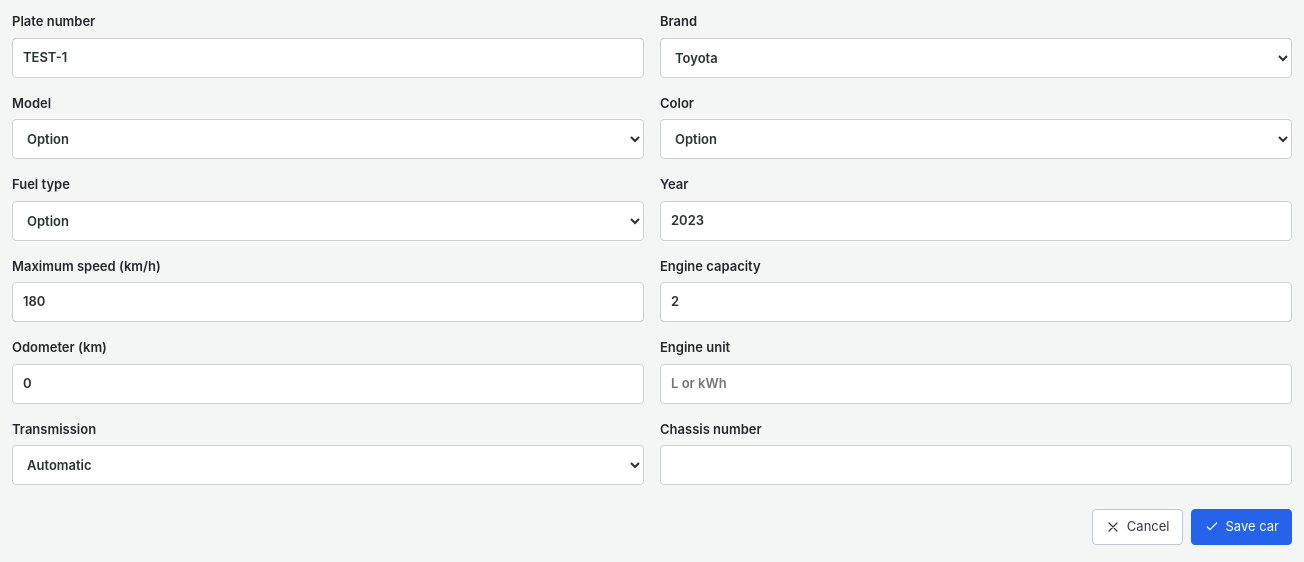
Test: Cars UI › clears model/color after changing brands
Check: the dropdown labelled "Model" is enabled, box [12,119,644,159]
Select "Select brand" in the dropdown labelled "Brand" at [976, 58], box [660,38,1292,78]
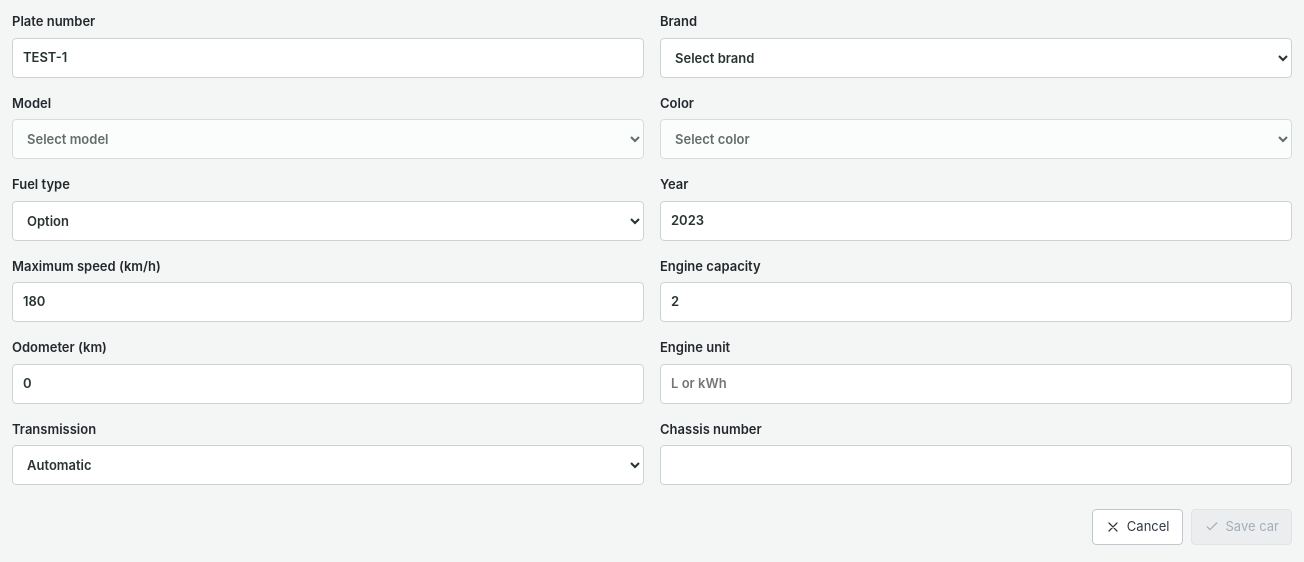
Check: the dropdown labelled "Model" shows "Select model", box [12,119,644,159]
Check: the dropdown labelled "Color" shows "Select color", box [660,119,1292,159]
